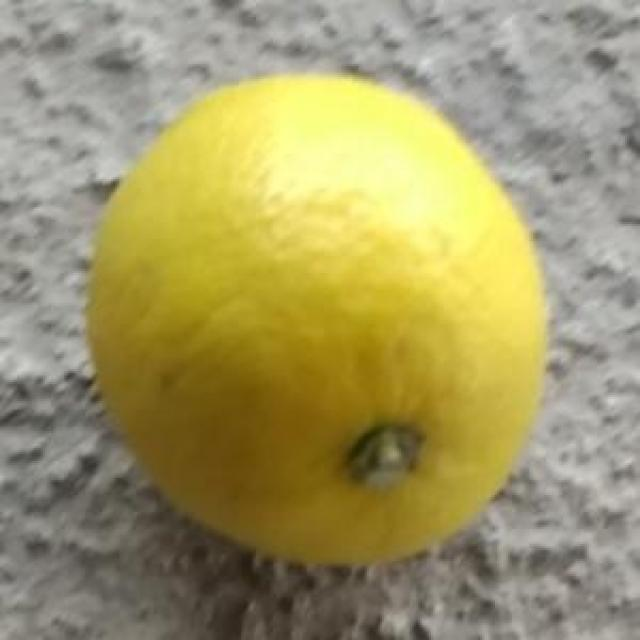lemon: (79, 67, 544, 566)
